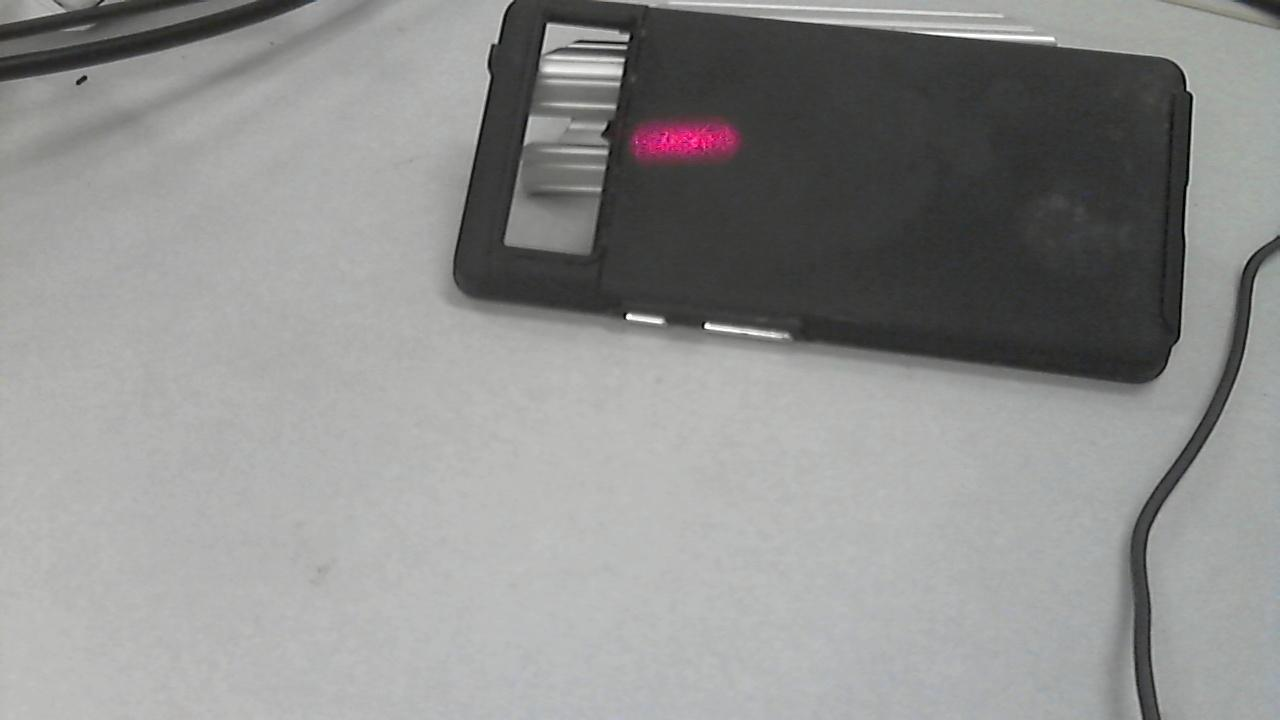Object retractable gel pen - Material plastic- Pdfname asdasdaswe: (611, 104, 751, 172)
